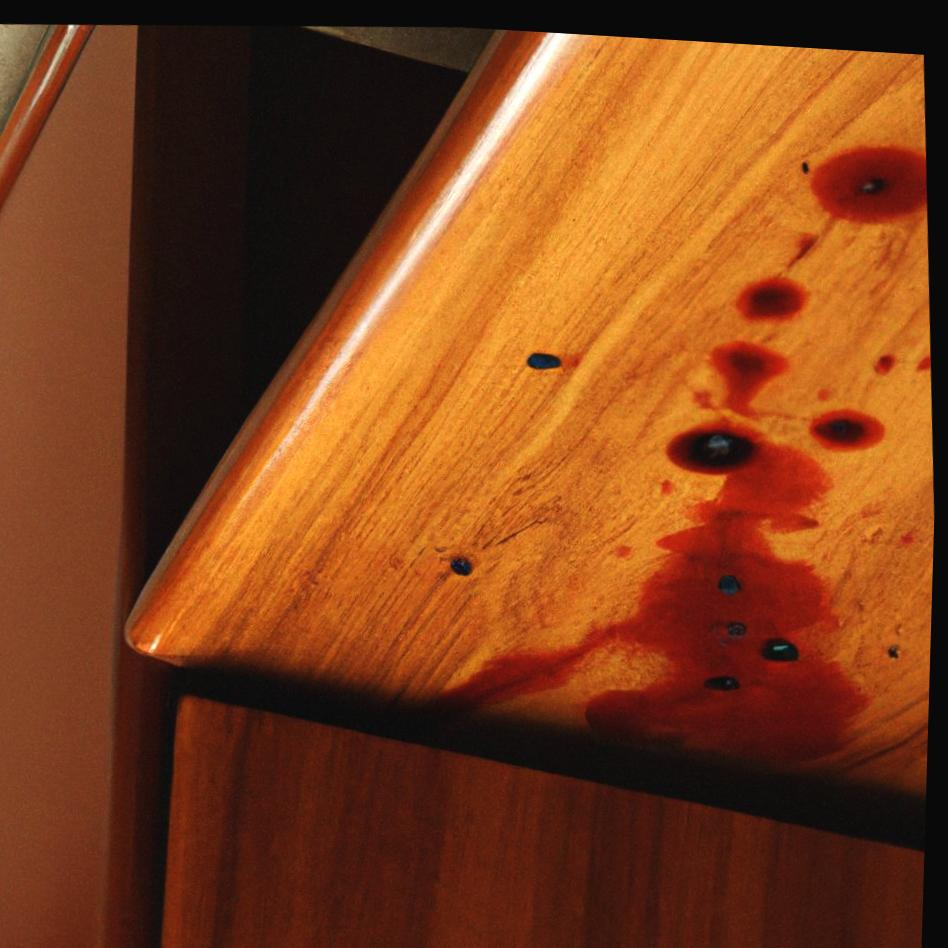Fire: (432, 406, 880, 759), (811, 136, 928, 213), (693, 331, 800, 414), (736, 268, 812, 314), (875, 344, 896, 365), (917, 345, 933, 359)
